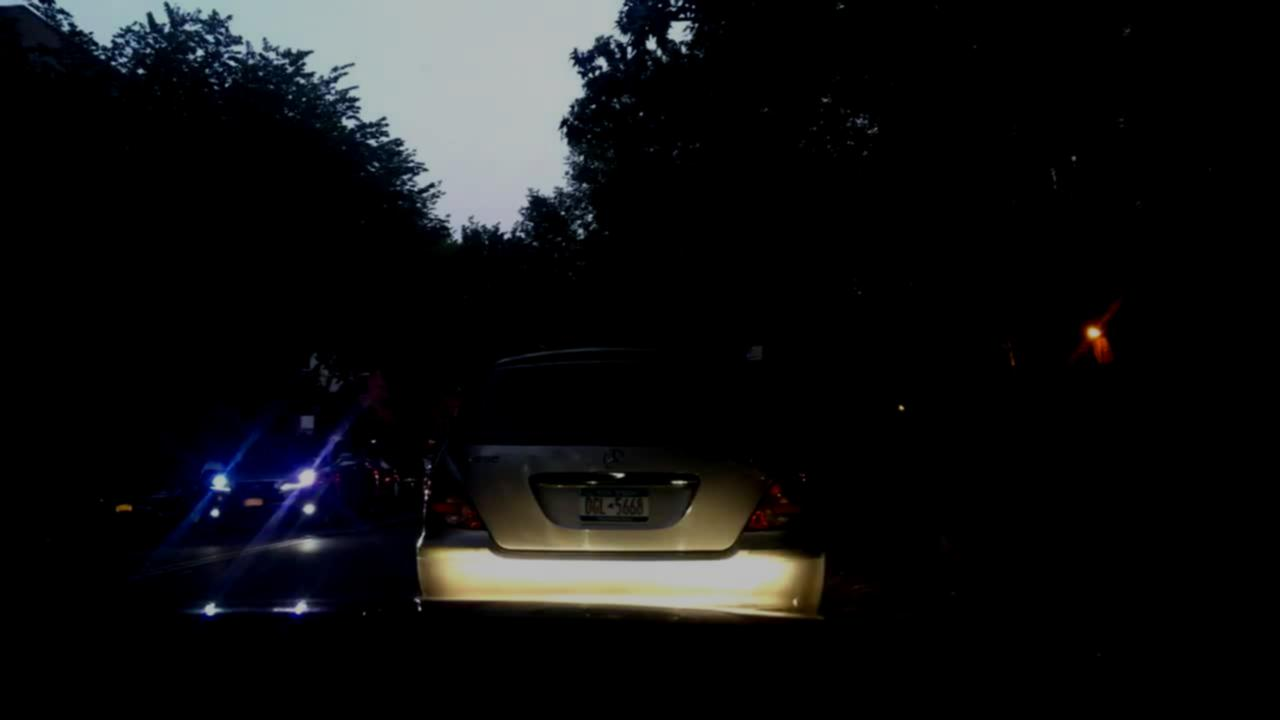Mercedes: (596, 445, 636, 470)
